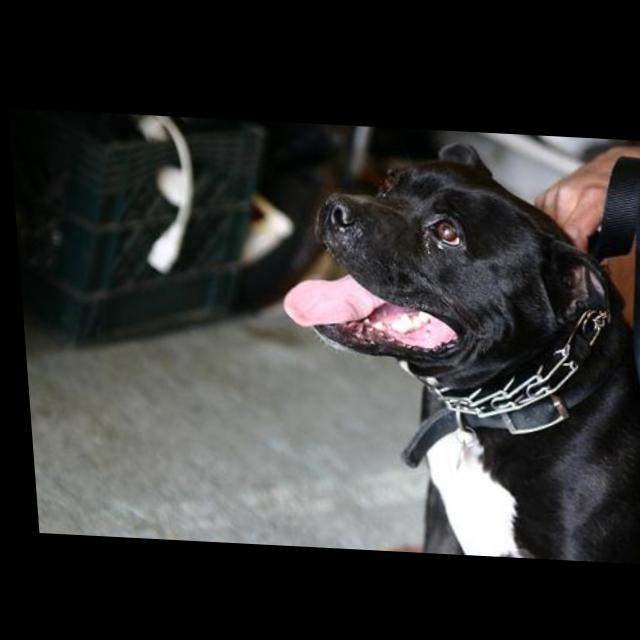amstaff: (270, 129, 640, 560)
